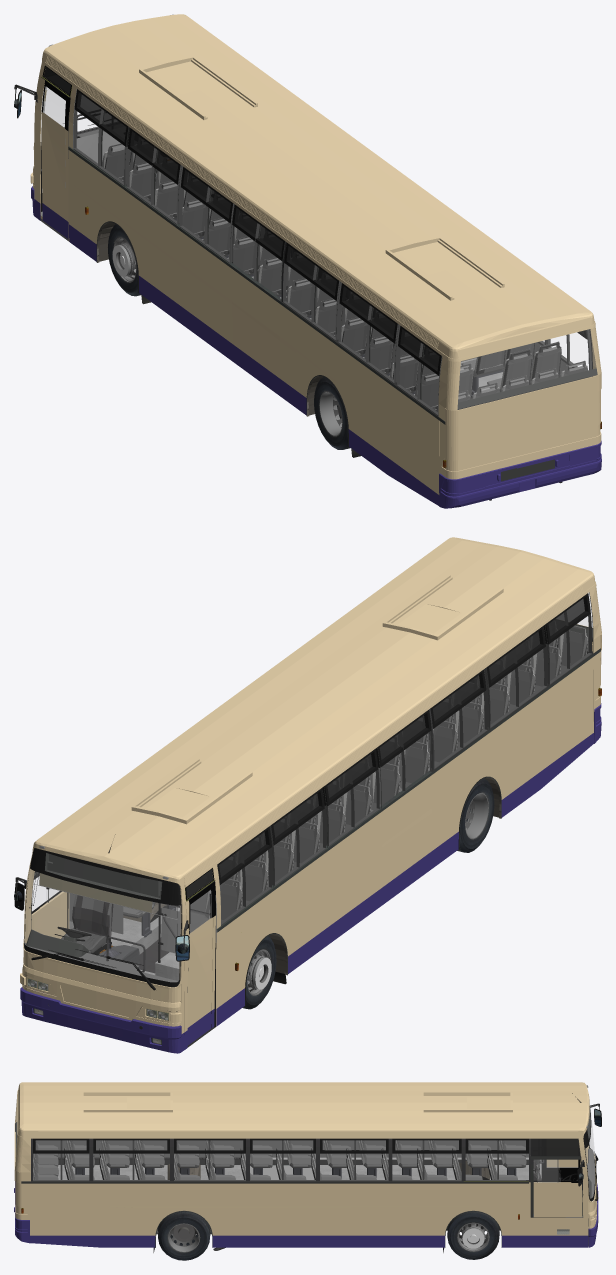
Rendered from indian gsrtc bus.fbx.
The picture shows the model from 3 angles, top to bottom: view 1: azimuth 30°, elevation 25°; view 2: azimuth 150°, elevation 25°; view 3: azimuth 270°, elevation 25°; orthographic projection. The views are drawn at different scales.
Visible parts, largest first — view 1: G-__556545.001, G-__558597, G-__555717, G-__555735; view 2: G-__556545.001, G-__558597, G-__555717, G-__555735, G-__556257.001; view 3: G-__556545.001, G-__556257.001, G-__555636, G-__555762, G-__558597.
Part boxes in pixels (box(x1,y1,x2,y2)): G-__556545.001: box(14, 14, 601, 508); G-__558597: box(41, 80, 70, 239); G-__555717: box(314, 377, 350, 449); G-__555735: box(108, 224, 140, 296); G-__556545.001: box(14, 537, 601, 1053); G-__558597: box(187, 881, 215, 1045); G-__555717: box(457, 778, 494, 852); G-__555735: box(242, 936, 276, 1009); G-__556257.001: box(31, 872, 67, 938); G-__556545.001: box(14, 1082, 601, 1252); G-__556257.001: box(530, 1156, 583, 1217); G-__555636: box(158, 1211, 210, 1260); G-__555762: box(447, 1211, 499, 1259); G-__558597: box(541, 1159, 579, 1180).
Size of the model in its own units: 304 by 324 by 1219.
80 materials, 52 textured.
